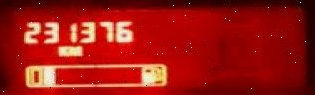1: (67, 20, 77, 43)
2: (22, 20, 40, 43)
3: (42, 19, 58, 43), (79, 19, 95, 42)
6: (113, 19, 132, 42)
7: (97, 19, 112, 42)
X: (67, 44, 82, 55), (57, 43, 67, 55)
